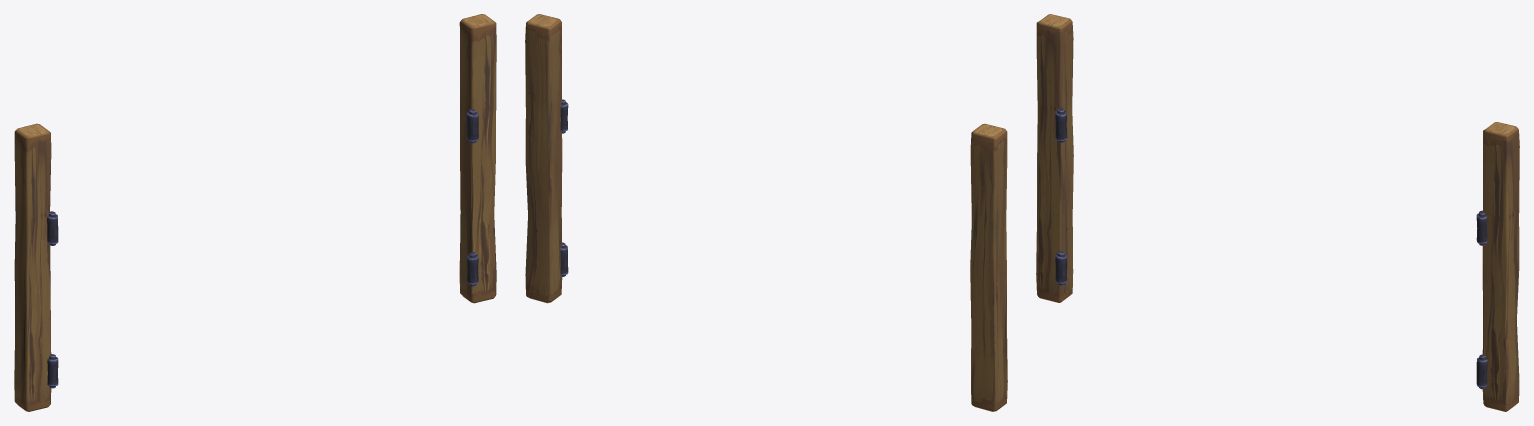
The model's file is SM_MOD_fence_gate_town.fbx.
The picture shows the model from 3 angles, left to right: view 1: azimuth 30°, elevation 25°; view 2: azimuth 150°, elevation 25°; view 3: azimuth 330°, elevation 25°; orthographic projection.
Visible parts, largest first — view 1: SM_MOD_fence_gate_town_LOD0; view 2: SM_MOD_fence_gate_town_LOD0; view 3: SM_MOD_fence_gate_town_LOD0.
Part boxes in pixels (x1=…): SM_MOD_fence_gate_town_LOD0: x1=14, y1=14, x2=496, y2=411; SM_MOD_fence_gate_town_LOD0: x1=525, y1=14, x2=1007, y2=411; SM_MOD_fence_gate_town_LOD0: x1=1036, y1=14, x2=1519, y2=411.
Size of what is drawn, in the model's own units: 197 by 111 by 12.04.
